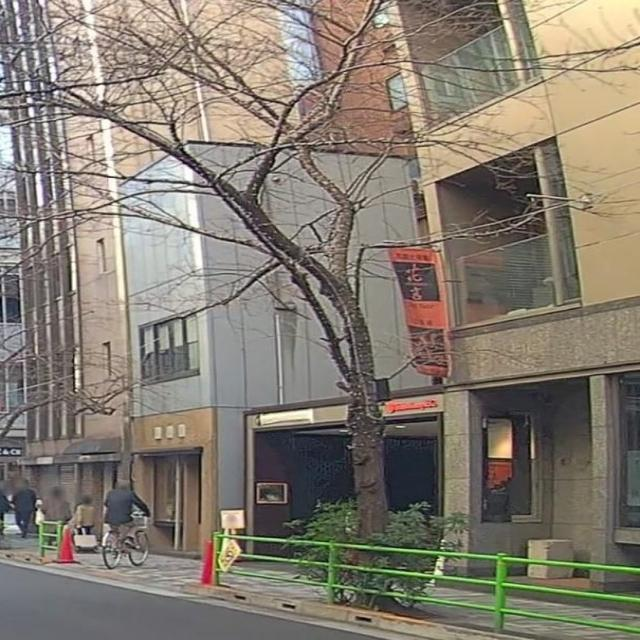sakura: (0, 0, 640, 608)
